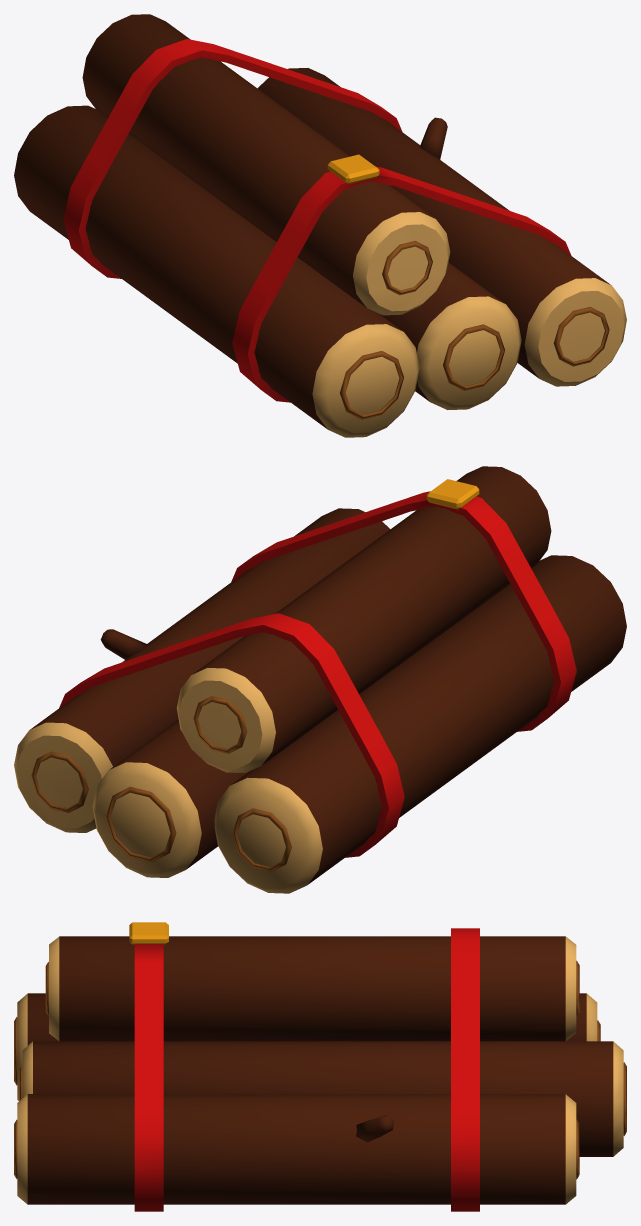
Rendered from Cargo_Logs.fbx.
3 renders of one model, top to bottom at view 1: azimuth 30°, elevation 25°; view 2: azimuth 150°, elevation 25°; view 3: azimuth 270°, elevation 25°, orthographic. The views are drawn at different scales.
Parts seen in each view (by area): view 1: Cargo_Logs; view 2: Cargo_Logs; view 3: Cargo_Logs.
Part boxes in pixels (x1=…): Cargo_Logs: x1=14, y1=14, x2=626, y2=437; Cargo_Logs: x1=14, y1=466, x2=626, y2=893; Cargo_Logs: x1=14, y1=922, x2=626, y2=1211.
Size of the model in its own units: 0.6805 by 0.4324 by 1.16.
